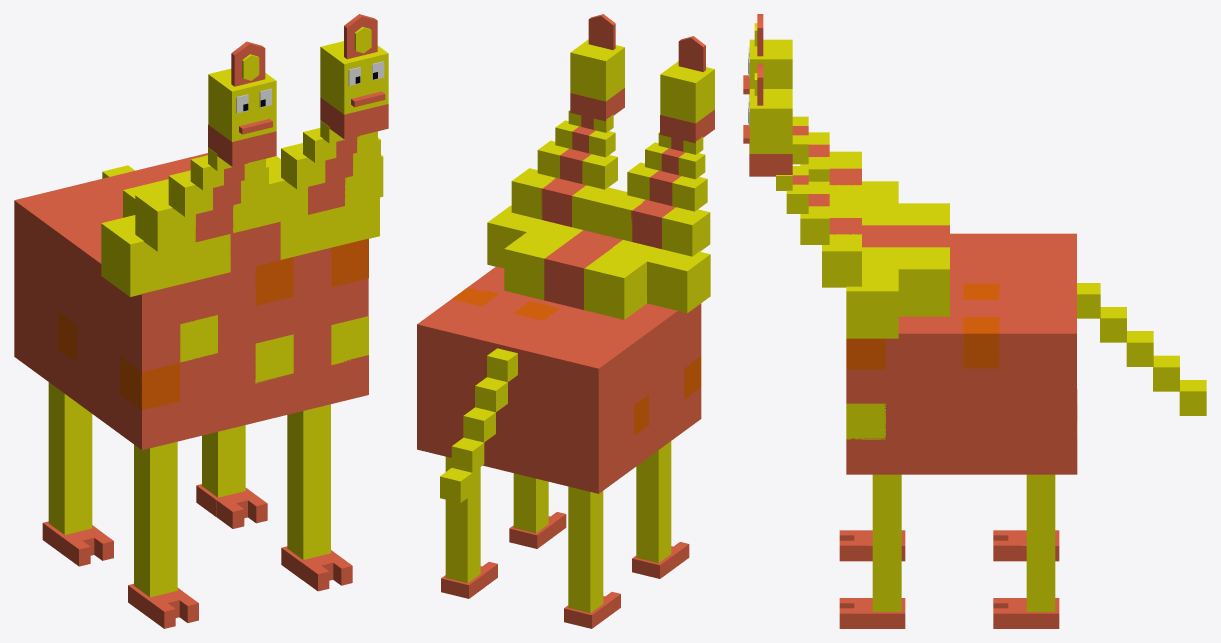
The picture shows the model from 3 angles, left to right: view 1: azimuth 30°, elevation 25°; view 2: azimuth 150°, elevation 25°; view 3: azimuth 270°, elevation 25°; orthographic projection. The views are drawn at different scales.
Visible parts, largest first — view 1: pCube1007, pCube990, pCube639, pCube977, pCube619, pCube603, pCube617, pCube618, pCube483, pCube507, pCube604, pCube594 (+84 smaller); view 2: pCube629, pCube1007, pCube639, pCube990, pCube630, pCube631, pCube588, pCube977, pCube1006, pCube594, pCube604, pCube617 (+89 smaller); view 3: pCube630, pCube1006, pCube639, pCube1055, pCube1031, pCube624, pCube1053, pCube1051, pCube990, pCube1029, pCube618, pCube620 (+56 smaller).
Part boxes in pixels (x1,y1,x2,y2): pCube1007: (101, 215, 180, 296); pCube990: (208, 68, 276, 141); pCube639: (320, 41, 388, 114); pCube977: (135, 187, 195, 251); pCube619: (48, 414, 92, 481); pCube603: (48, 468, 92, 534); pCube617: (134, 476, 177, 544); pCube618: (287, 440, 330, 506); pCube483: (120, 395, 180, 450); pCube507: (120, 317, 180, 372); pCube604: (202, 434, 245, 497); pCube594: (287, 493, 330, 559); pCube629: (584, 251, 646, 319); pCube1007: (647, 249, 710, 313); pCube639: (570, 39, 624, 101); pCube990: (660, 61, 714, 123); pCube630: (504, 232, 567, 300); pCube631: (544, 242, 607, 309); pCube588: (568, 348, 616, 400); pCube977: (662, 207, 710, 256); pCube1006: (487, 205, 542, 268); pCube594: (513, 481, 548, 533); pCube604: (445, 531, 480, 583); pCube617: (636, 467, 671, 520); pCube630: (897, 247, 949, 316); pCube1006: (846, 269, 898, 338); pCube639: (749, 89, 792, 153); pCube1055: (1037, 317, 1076, 369); pCube1031: (924, 317, 963, 369); pCube624: (822, 234, 861, 287); pCube1053: (998, 317, 1037, 369); pCube1051: (959, 317, 999, 369); pCube990: (749, 39, 792, 88); pCube1029: (885, 317, 924, 369); pCube618: (872, 513, 901, 563); pCube620: (1026, 513, 1055, 563).
Size of the model in its own units: 13.09 by 30.49 by 23.31.
